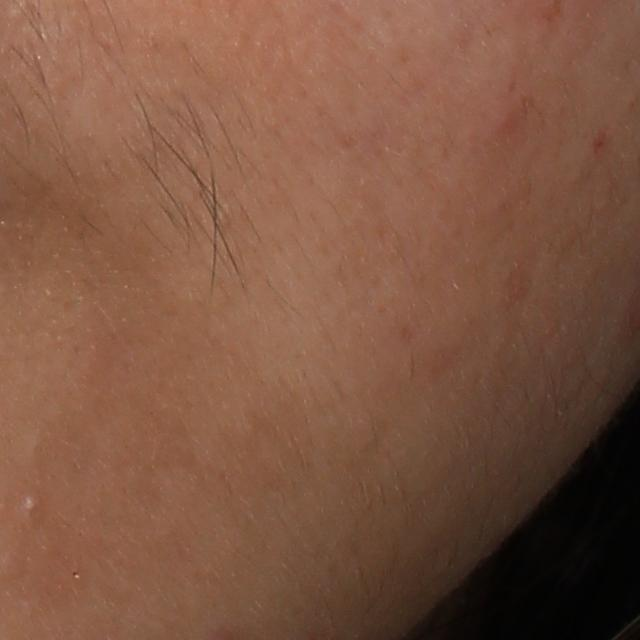comedo: (19, 492, 44, 517)
